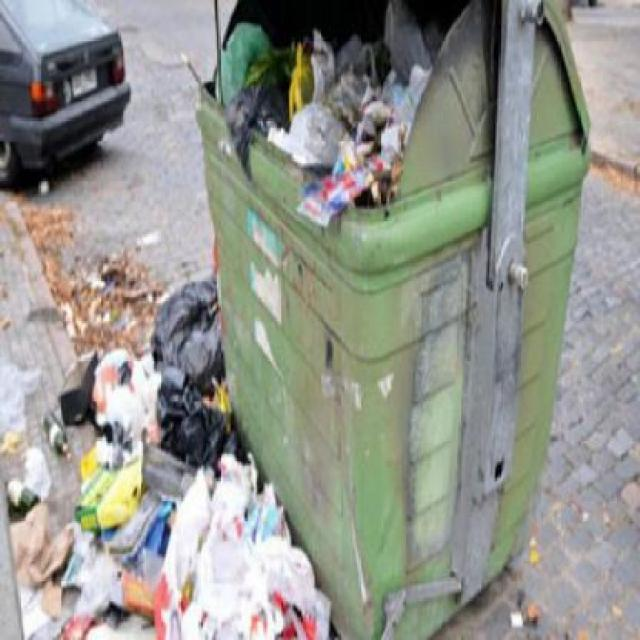garbage: (0, 403, 168, 638), (242, 0, 438, 184), (26, 190, 144, 399), (145, 273, 216, 599), (170, 477, 306, 638), (212, 22, 260, 112)
